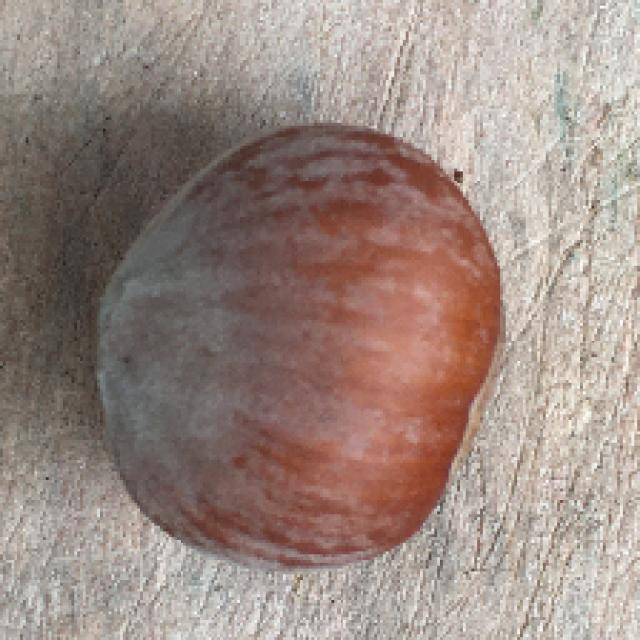qualityHazelnut: (82, 108, 510, 580)
